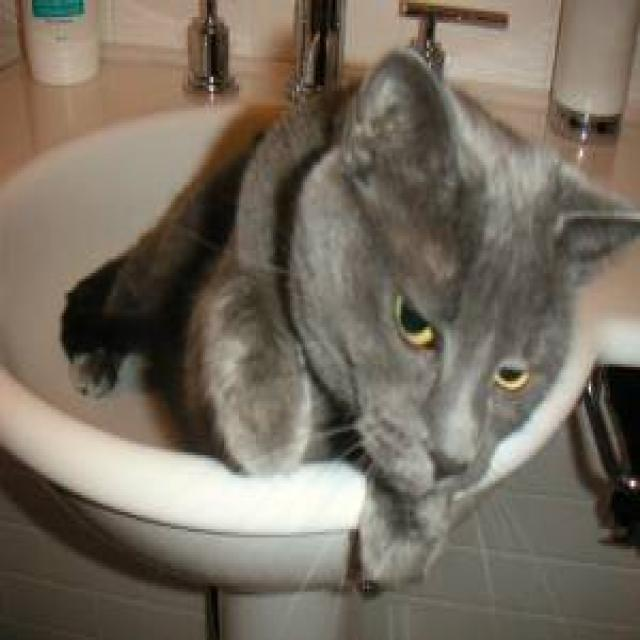Russian_Blue: (281, 31, 640, 503)
